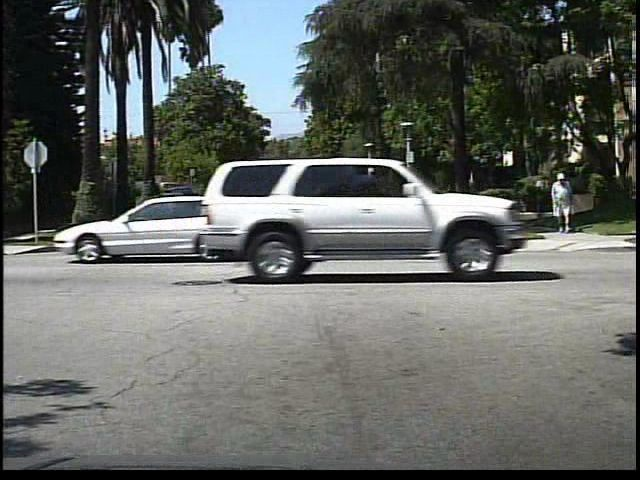person: (547, 167, 577, 242)
